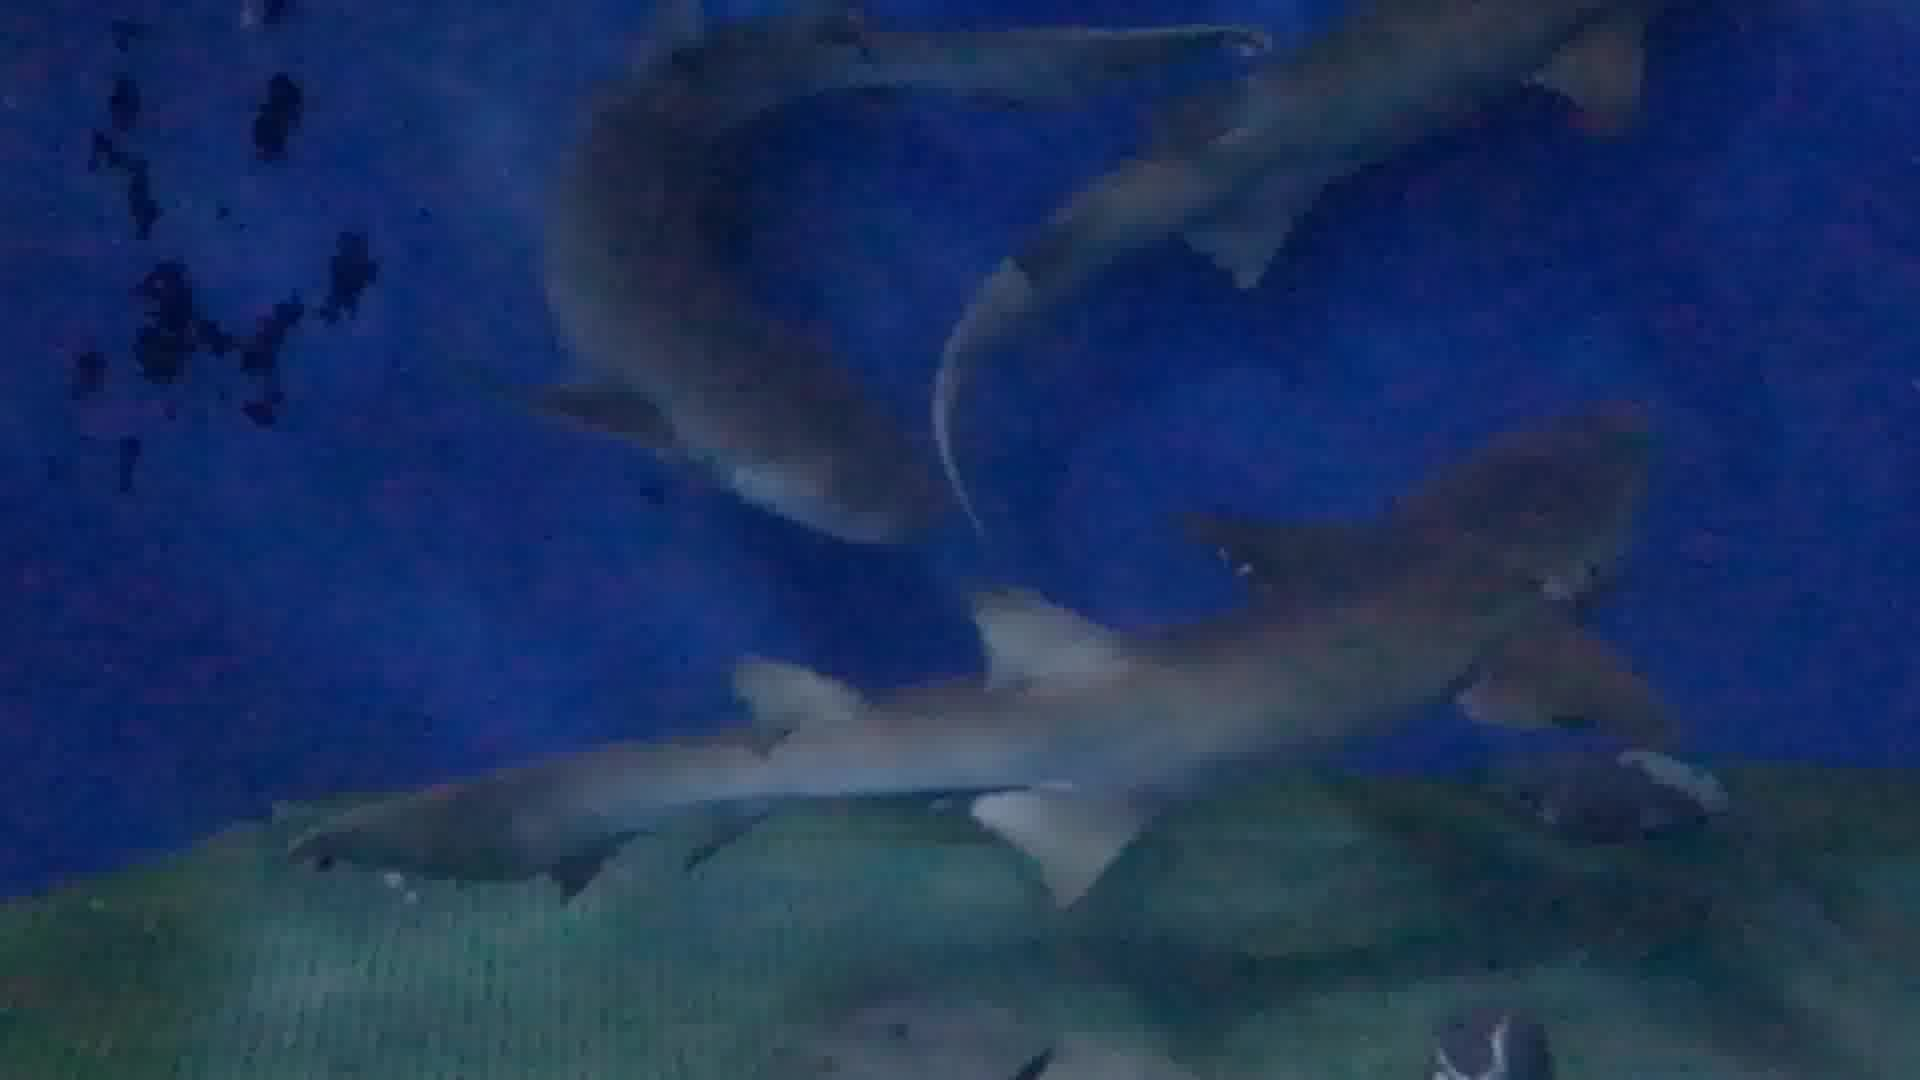Nebrius ferrugineus: (969, 427, 1821, 928), (305, 61, 1156, 562)
